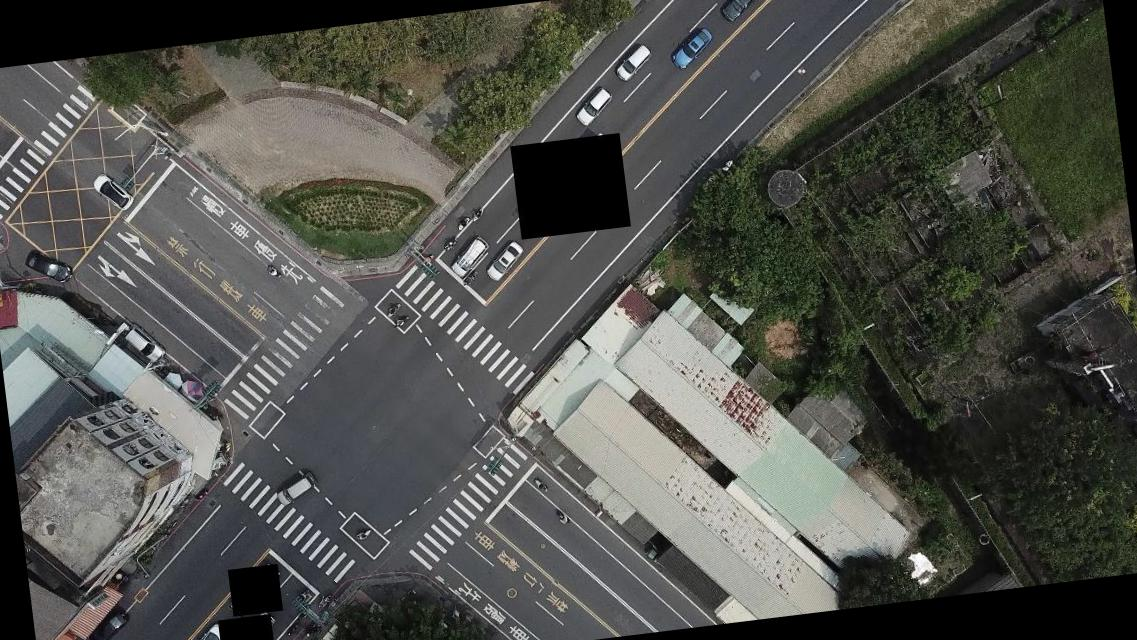vehicle: (21, 249, 74, 291), (442, 234, 488, 278), (120, 322, 164, 368), (270, 469, 320, 508), (484, 240, 528, 284), (520, 144, 564, 188), (668, 26, 712, 69), (89, 169, 132, 212), (573, 85, 614, 126), (613, 43, 653, 82), (85, 612, 131, 639), (720, 0, 769, 24), (185, 626, 230, 639)
